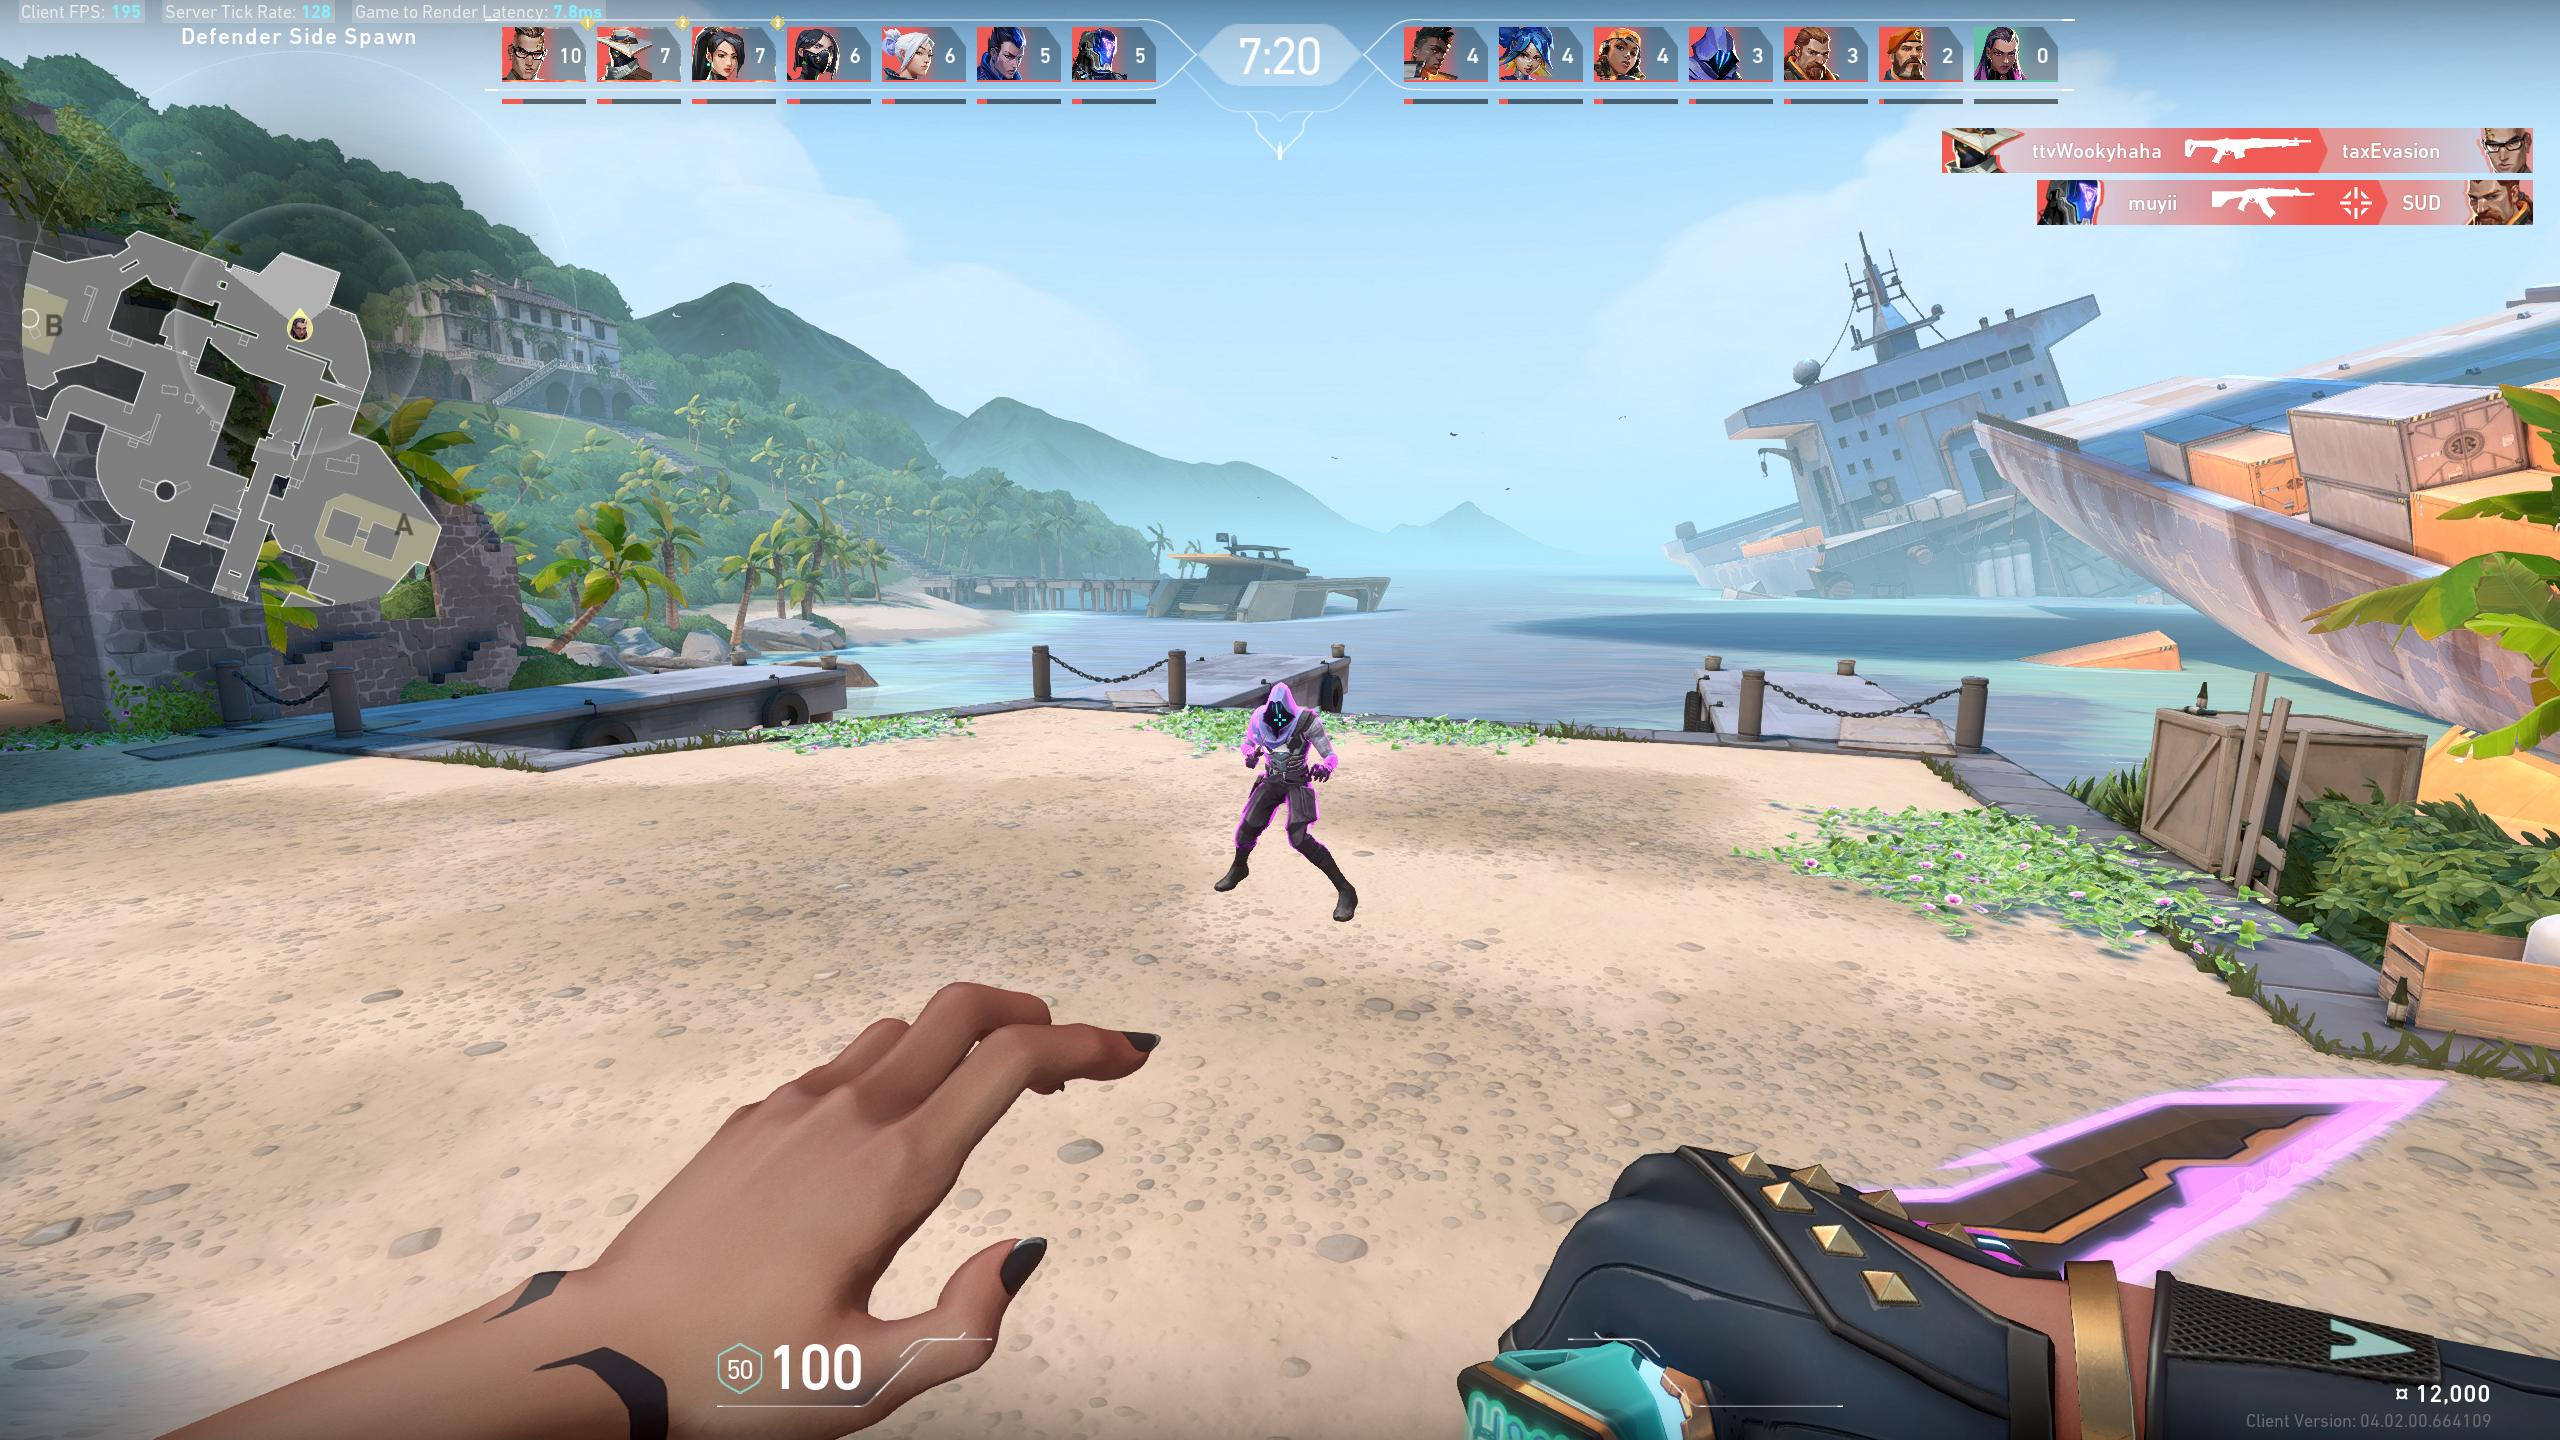enemyBody: (1268, 737, 1305, 777)
enemyHead: (1268, 703, 1292, 730)
